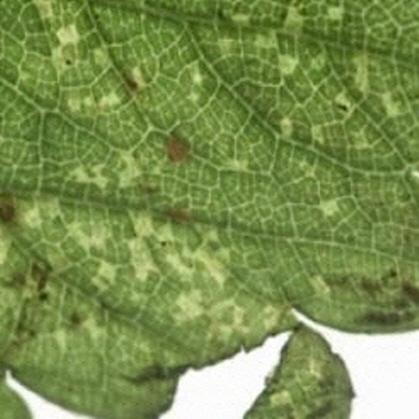Angular Leafspot: (0, 0, 418, 418)
